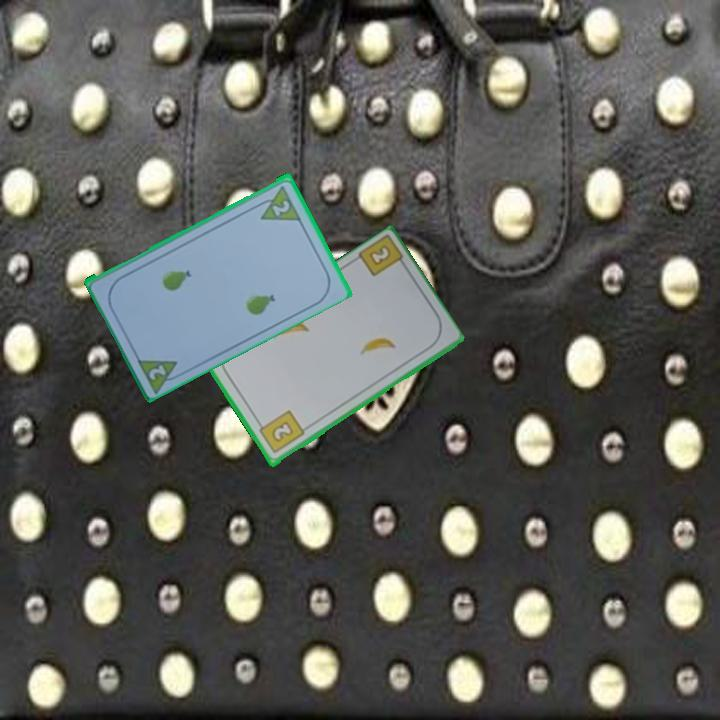2b: (254, 407, 307, 457), (365, 242, 394, 269)
2p: (269, 196, 293, 219), (145, 360, 169, 383)
